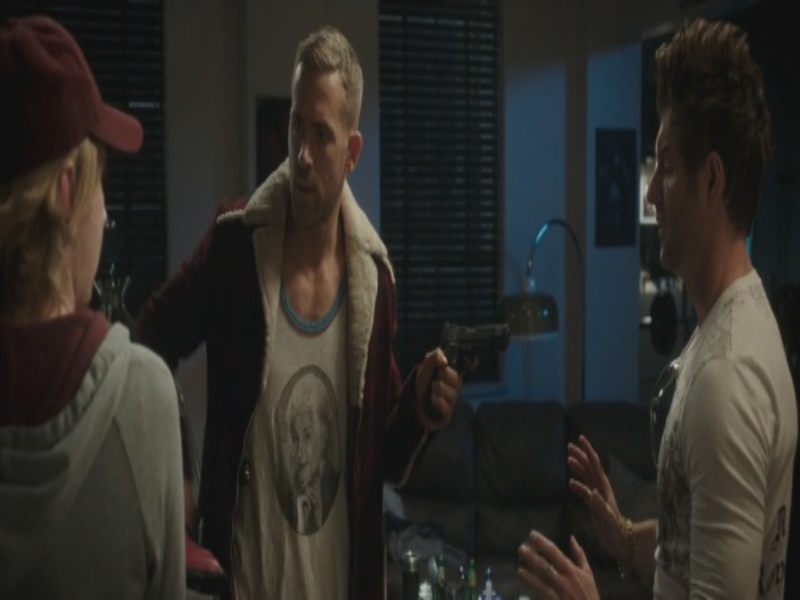person: (138, 27, 452, 599), (526, 22, 785, 599), (1, 15, 188, 593)
weapon: (425, 321, 512, 412)
